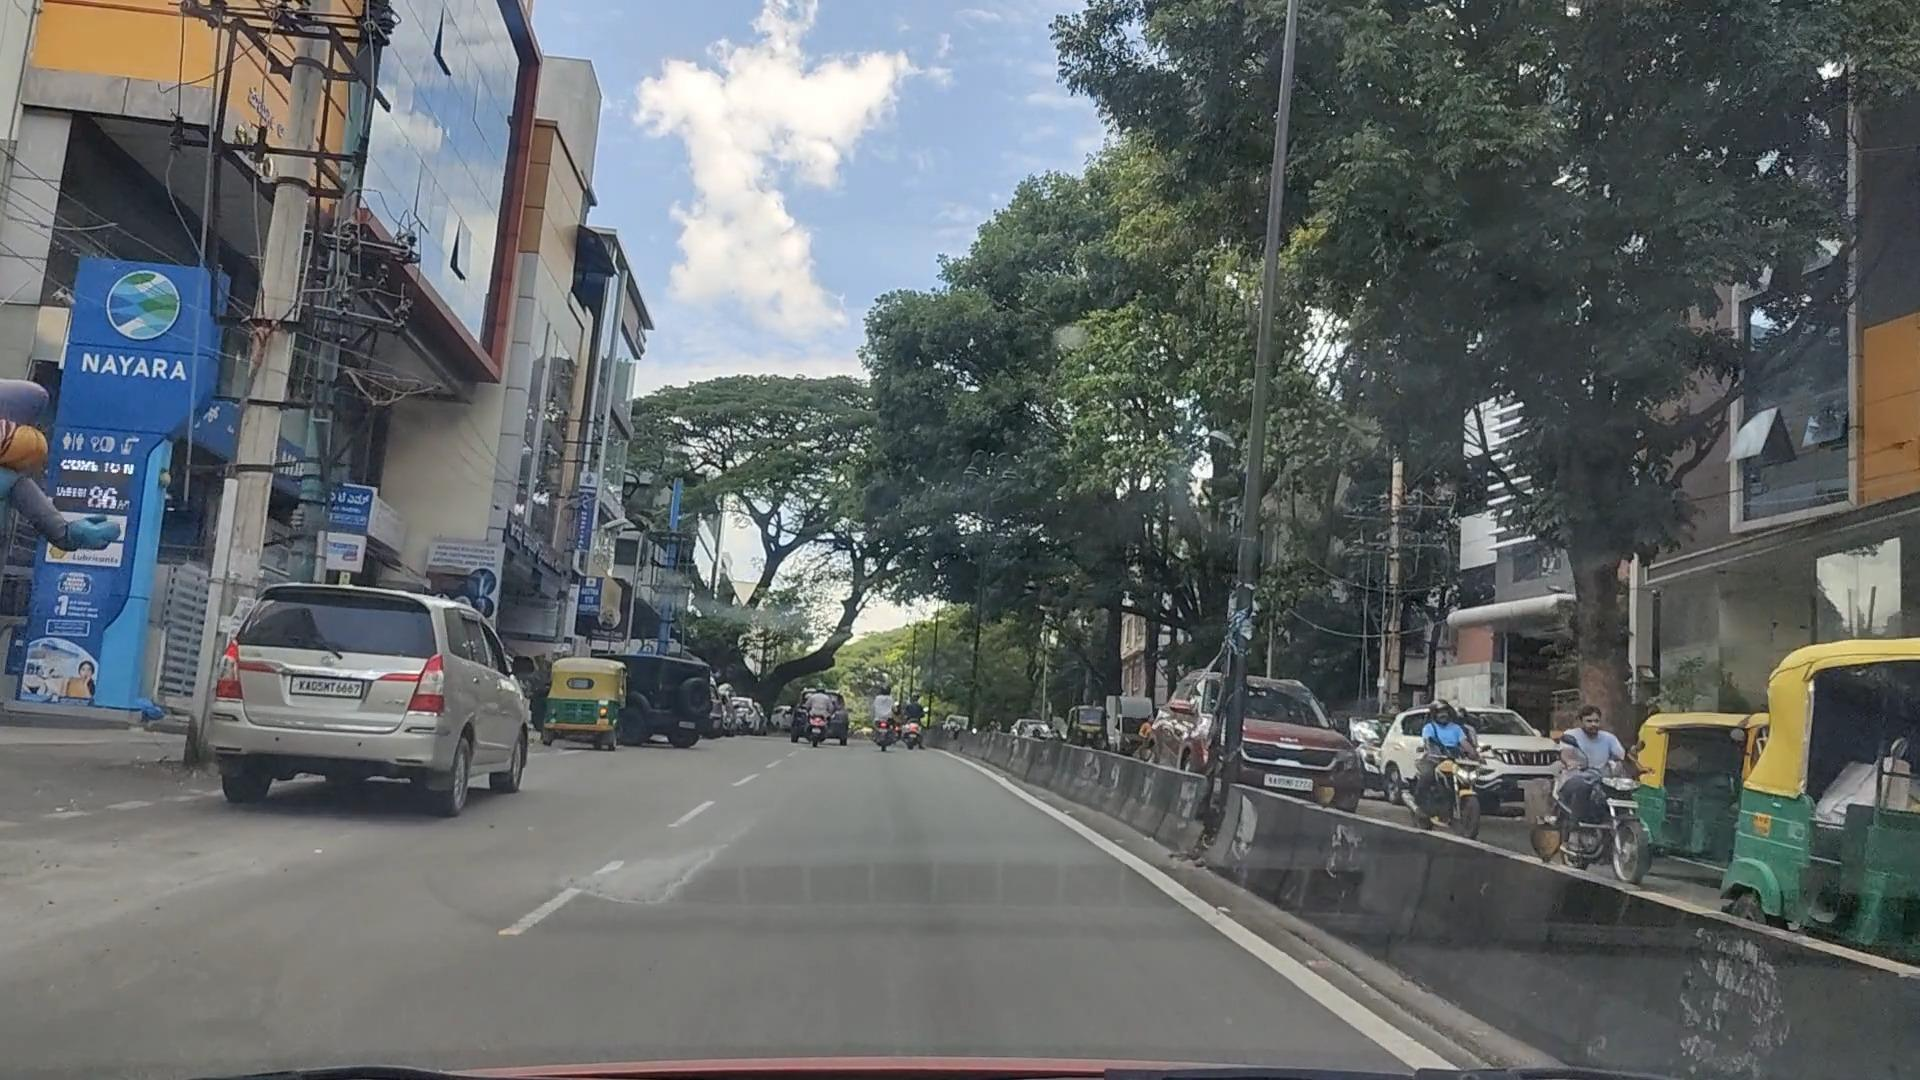LMV: (193, 553, 550, 835)
RoadDamages: (571, 843, 748, 936)
